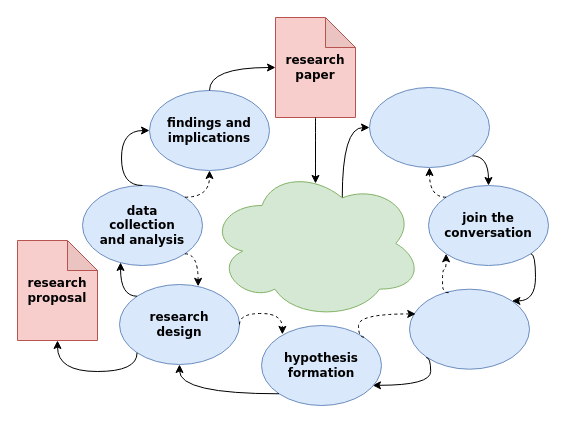
Image size: 566x423. Some labels were removed from this diagram. The box of each missing label's shape, as (x1, y1, x2, y2) in pixels:
existing knowledge: (208, 166, 422, 320)
theory development: (408, 288, 530, 369)
topic, problem/puzzle, question: (368, 86, 490, 168)
